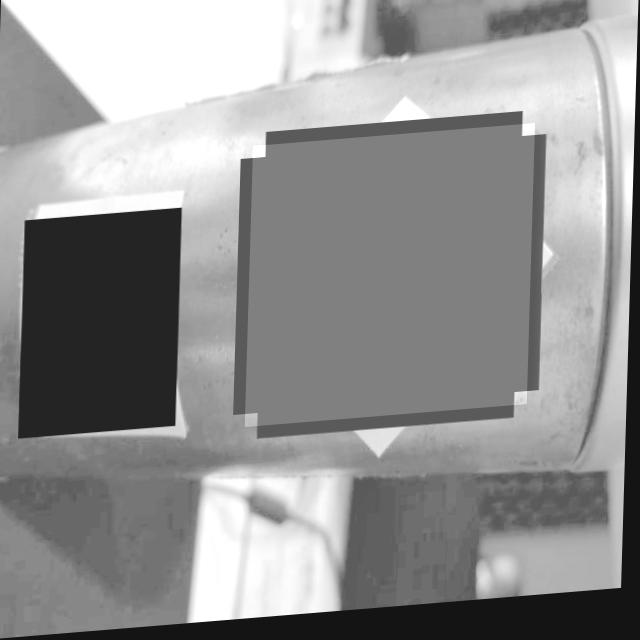qr_code: (247, 132, 535, 432), (20, 211, 183, 439)
